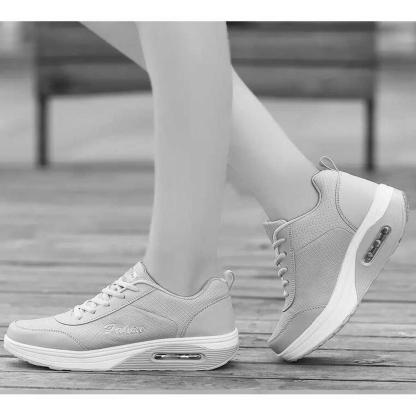ankle: (319, 206, 326, 211), (178, 301, 185, 306)
heel: (375, 186, 379, 190), (230, 329, 234, 333)
left_foot: (5, 278, 240, 373)
pinky: (33, 339, 43, 345), (275, 333, 279, 336)
right_foot: (268, 170, 409, 364)
toe: (12, 323, 20, 327), (289, 341, 294, 344)
